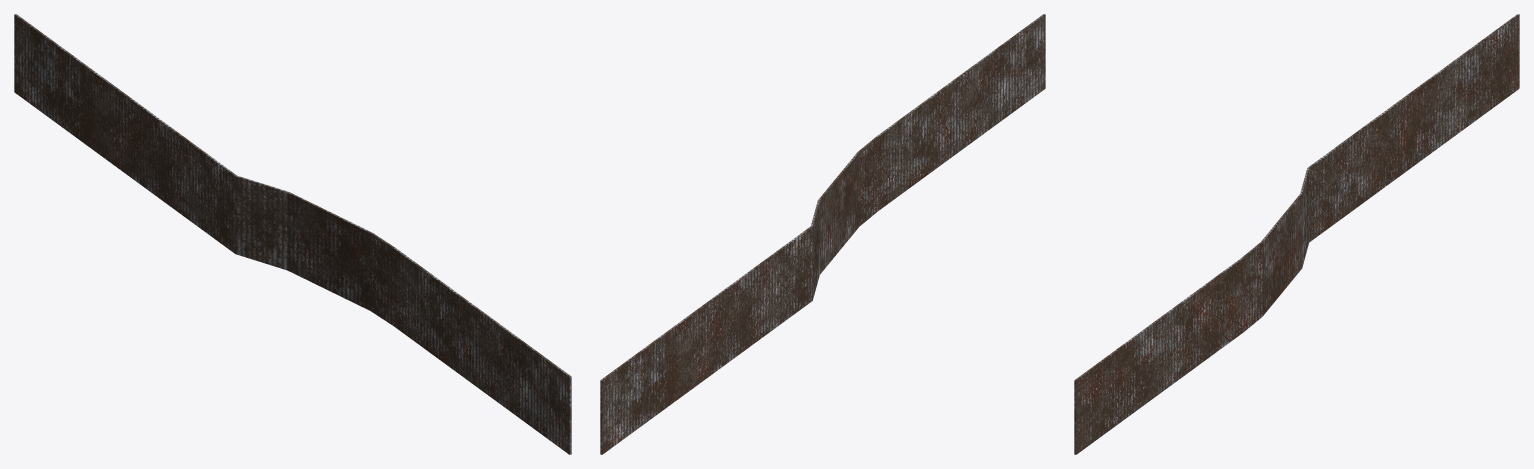
File: Valla1.obj
The picture shows the model from 3 angles, left to right: view 1: azimuth 30°, elevation 25°; view 2: azimuth 150°, elevation 25°; view 3: azimuth 330°, elevation 25°; orthographic projection. The views are drawn at different scales.
Visible parts, largest first — view 1: Valla1; view 2: Valla1; view 3: Valla1.
Part boxes in pixels (x1=…): Valla1: x1=14, y1=14, x2=571, y2=454; Valla1: x1=600, y1=14, x2=1045, y2=454; Valla1: x1=1074, y1=14, x2=1519, y2=454.
Size of the model in its own units: 10.22 by 16.27 by 193.
Materials: 1 (1 with a texture image).
